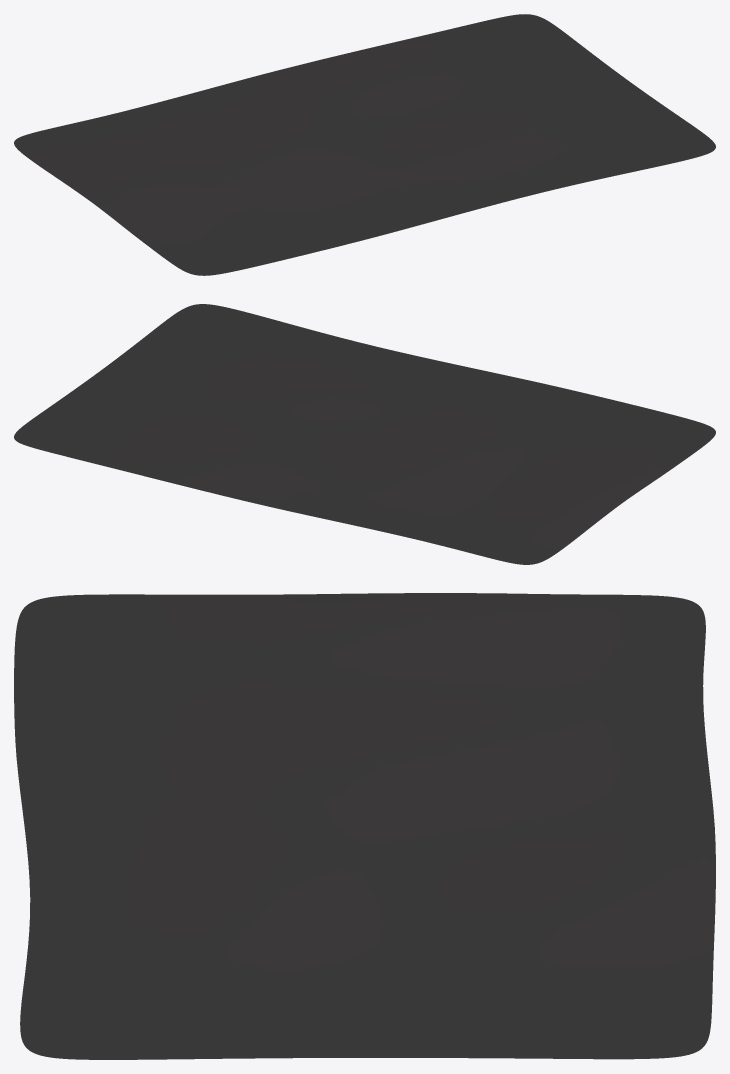
The model's file is rug.glb.
3 renders of one model, top to bottom at view 1: azimuth 30°, elevation 25°; view 2: azimuth 150°, elevation 25°; view 3: azimuth 270°, elevation 25°, orthographic. The views are drawn at different scales.
Visible parts, largest first — view 1: Carpet_0001; view 2: Carpet_0001; view 3: Carpet_0001.
Boxes of the visible parts, x1,y1,x2,y2 form: Carpet_0001: (14,14,715,275); Carpet_0001: (14,304,715,564); Carpet_0001: (14,593,715,1059).
Bounding box in the file's own units: 2.16 × 0.00845 × 1.38.
1 material, 1 textured.
